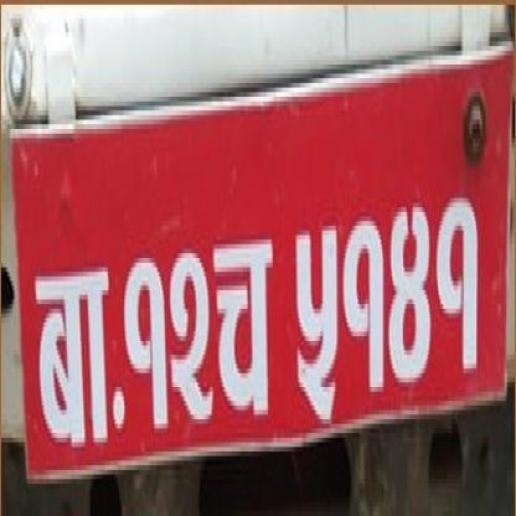1: (433, 194, 484, 396), (120, 248, 171, 438), (341, 212, 388, 414)
2: (169, 239, 216, 438)
4: (387, 199, 433, 401)
5: (289, 212, 341, 428)
ba: (30, 253, 113, 457)
cha: (212, 217, 277, 429)
